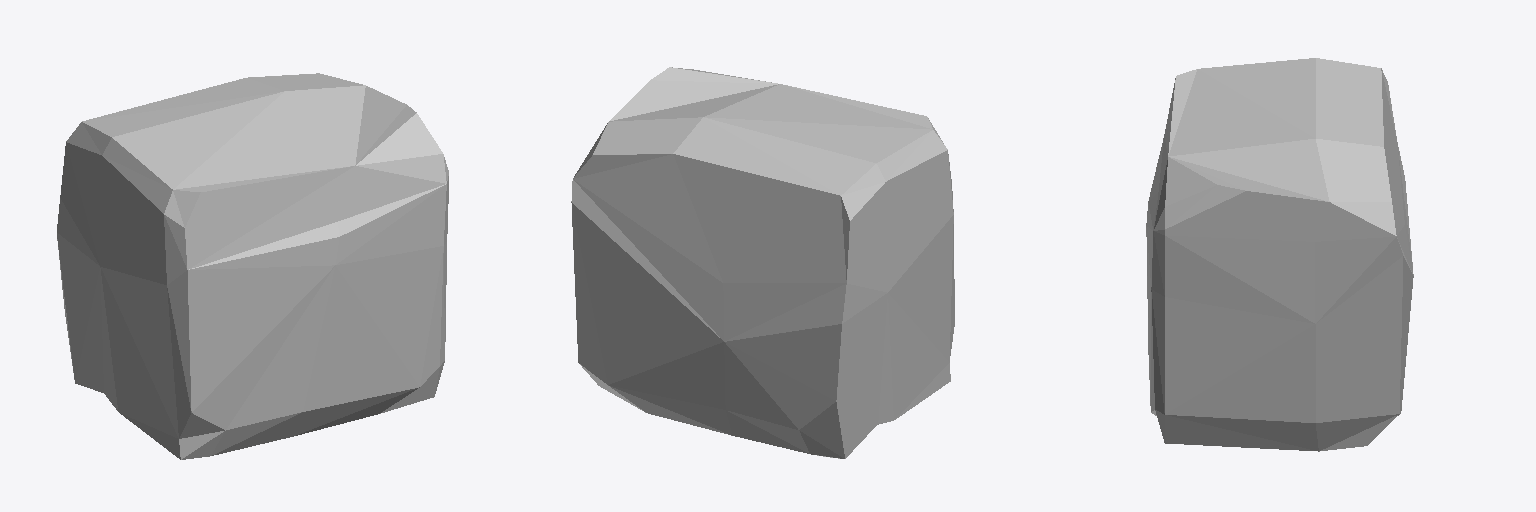
Rendered from Prop_Brick4.obj.
3 views of the same model, side by side, from view 1: azimuth 30°, elevation 25°; view 2: azimuth 150°, elevation 25°; view 3: azimuth 270°, elevation 25° (orthographic).
Visible parts, largest first — view 1: Prop_Brick4; view 2: Prop_Brick4; view 3: Prop_Brick4.
Boxes of the visible parts, x1=… form: Prop_Brick4: x1=57, y1=73, x2=448, y2=459; Prop_Brick4: x1=571, y1=67, x2=954, y2=458; Prop_Brick4: x1=1146, y1=58, x2=1413, y2=451.
Bounding box in the file's own units: 0.2567 × 0.2497 × 0.2156.